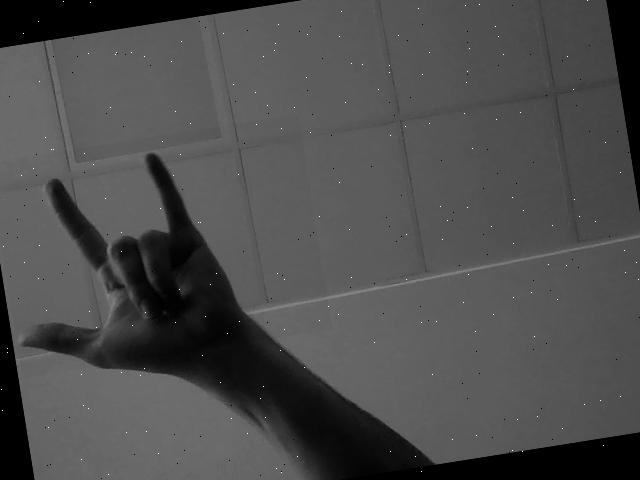I_Love_You: (0, 114, 332, 378)
